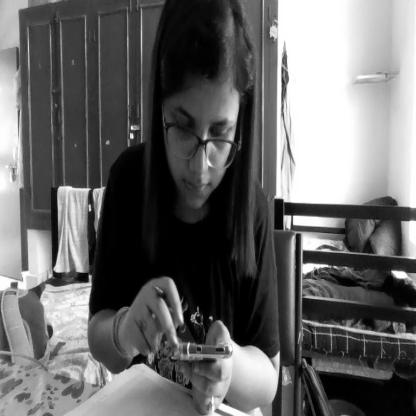Normal: (156, 0, 248, 218)
